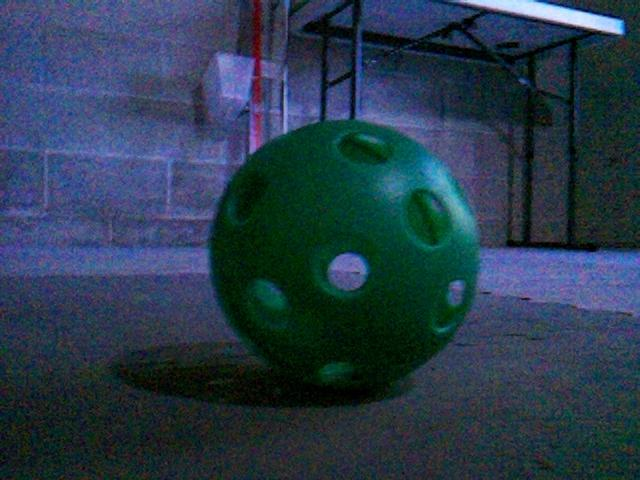Green: (201, 119, 482, 393)
